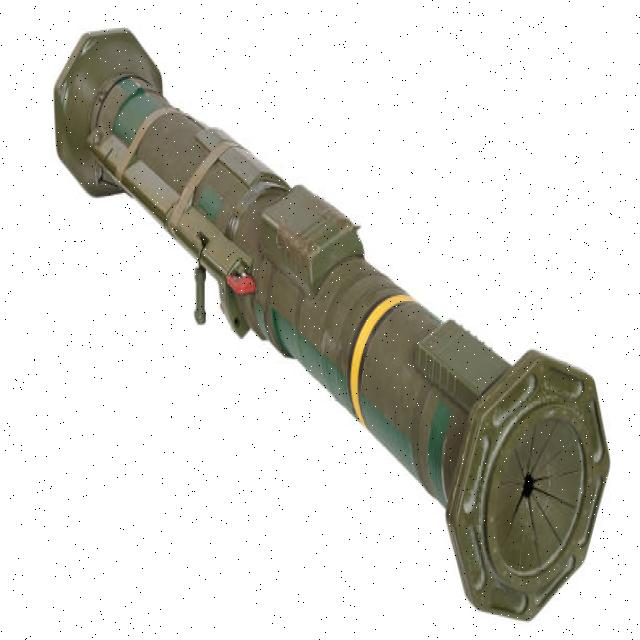bazooka: (49, 24, 618, 640)
